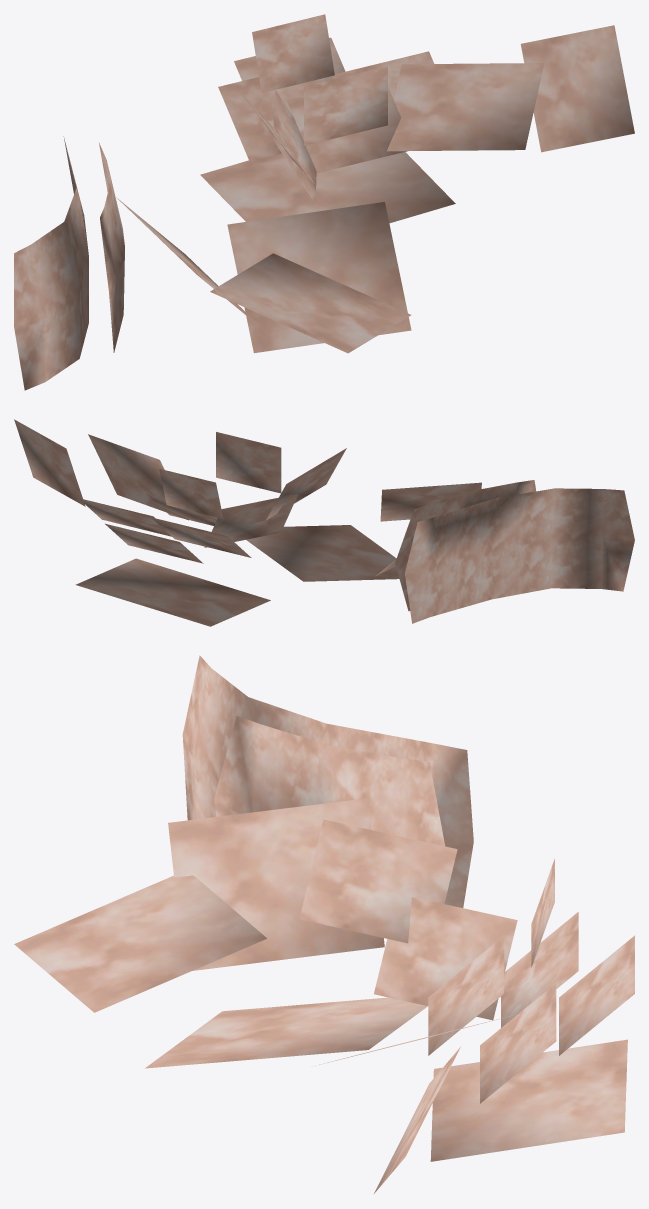
The model's file is stg210_MotCloud_05.obj.
The picture shows the model from 3 angles, top to bottom: view 1: azimuth 30°, elevation 25°; view 2: azimuth 150°, elevation 25°; view 3: azimuth 270°, elevation 25°; orthographic projection. The views are drawn at different scales.
Parts seen in each view (by area): view 1: polygon14, polygon11, polygon2, polygon10, polygon9, polygon12, polygon4, polygon6, polygon3, polygon7, polygon1, polygon5 (+2 smaller); view 2: polygon14, polygon10, polygon11, polygon2, polygon4, polygon9, polygon1, polygon6, polygon12, polygon0, polygon3, polygon8 (+2 smaller); view 3: polygon14, polygon13, polygon12, polygon10, polygon0, polygon11, polygon1, polygon5, polygon7, polygon8, polygon3, polygon9 (+1 smaller).
Boxes of the visible parts, x1,y1,x2,y2 form: polygon14: (14,136,124,390); polygon11: (227,202,411,353); polygon2: (387,63,544,151); polygon10: (200,152,455,223); polygon9: (520,25,634,152); polygon12: (210,253,411,353); polygon4: (304,66,387,145); polygon6: (252,14,334,92); polygon3: (218,77,324,161); polygon7: (286,87,407,173); polygon1: (273,89,316,203); polygon5: (332,51,434,99); polygon14: (395,480,634,623); polygon10: (75,558,270,626); polygon11: (246,525,399,581); polygon2: (88,434,188,520); polygon4: (216,432,281,493); polygon9: (14,419,85,506); polygon1: (204,494,297,547); polygon6: (159,469,223,518); polygon12: (380,482,481,521); polygon0: (266,448,346,520); polygon3: (151,517,251,557); polygon8: (105,523,203,563); polygon14: (182,655,473,907); polygon13: (168,798,384,970); polygon12: (14,875,266,1012); polygon10: (430,1039,627,1161); polygon0: (299,819,457,943); polygon11: (145,997,427,1068); polygon1: (374,897,517,1020); polygon5: (480,983,556,1103); polygon7: (428,935,504,1055); polygon8: (559,935,634,1055); polygon3: (501,912,578,1027); polygon9: (374,1047,460,1193).
Size of the model in its own units: 4780 by 1238 by 2978.
Materials: 2 (2 with a texture image).
